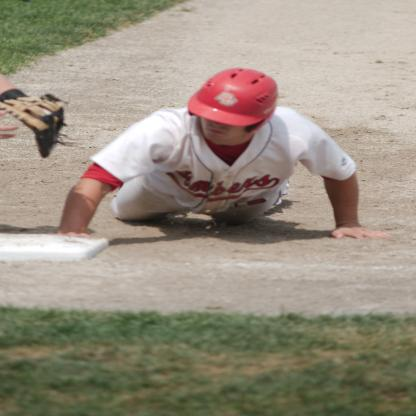Helmet: (186, 62, 286, 140)
